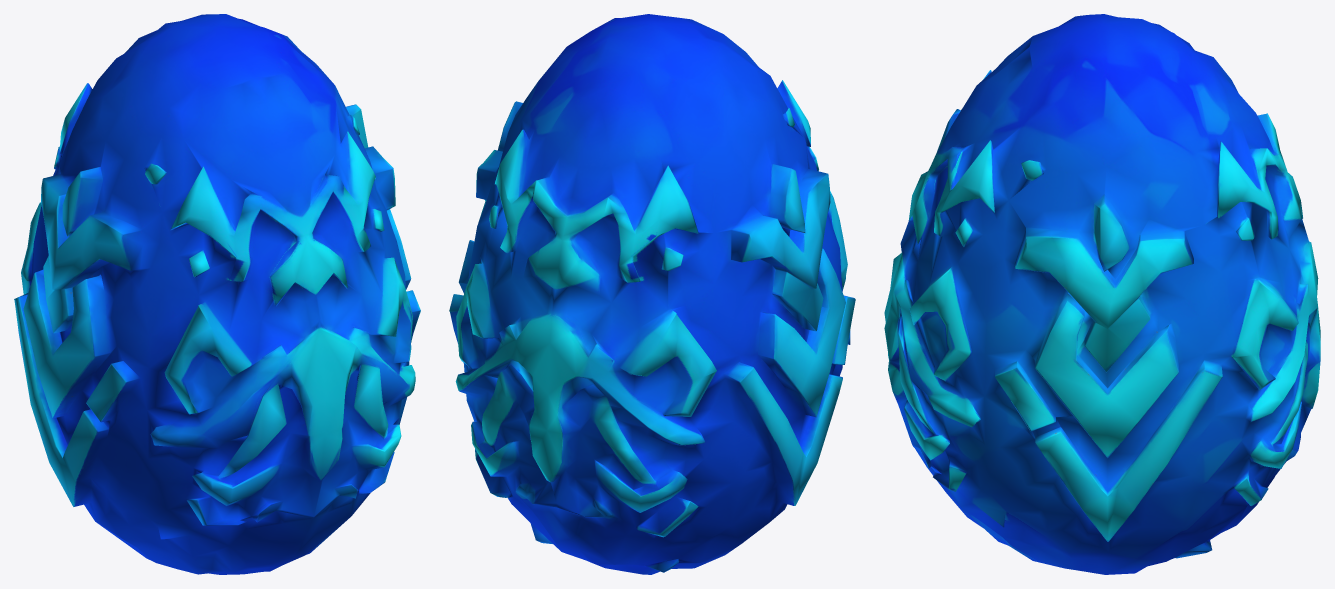
3 renders of one model, left to right at view 1: azimuth 30°, elevation 25°; view 2: azimuth 150°, elevation 25°; view 3: azimuth 270°, elevation 25°, orthographic.
Parts seen in each view (by area): view 1: tripo_node_40842ceb-e219-4141-aeb5-b7134719a62d; view 2: tripo_node_40842ceb-e219-4141-aeb5-b7134719a62d; view 3: tripo_node_40842ceb-e219-4141-aeb5-b7134719a62d.
Boxes of the visible parts, box(x1,y1,x2,y2) form: tripo_node_40842ceb-e219-4141-aeb5-b7134719a62d: box(14, 14, 420, 574); tripo_node_40842ceb-e219-4141-aeb5-b7134719a62d: box(449, 14, 855, 574); tripo_node_40842ceb-e219-4141-aeb5-b7134719a62d: box(884, 14, 1320, 574).
Bounding box in the file's own units: 0.6477 × 1 × 0.7417.
1 material, 1 textured.
